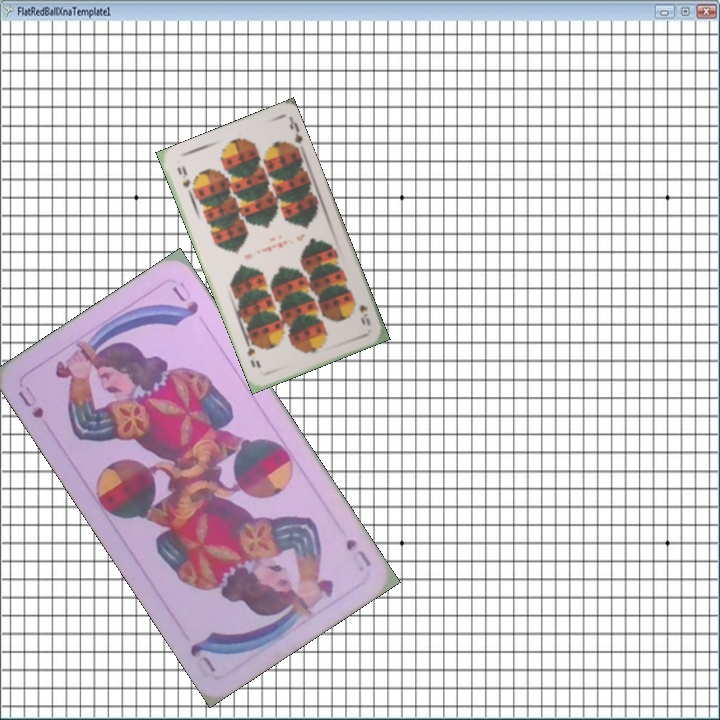S9: (173, 162, 193, 190), (355, 300, 373, 328)
SU: (14, 382, 47, 421), (341, 534, 374, 570)
